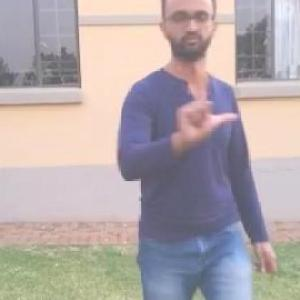land_hand: (164, 64, 242, 146)
